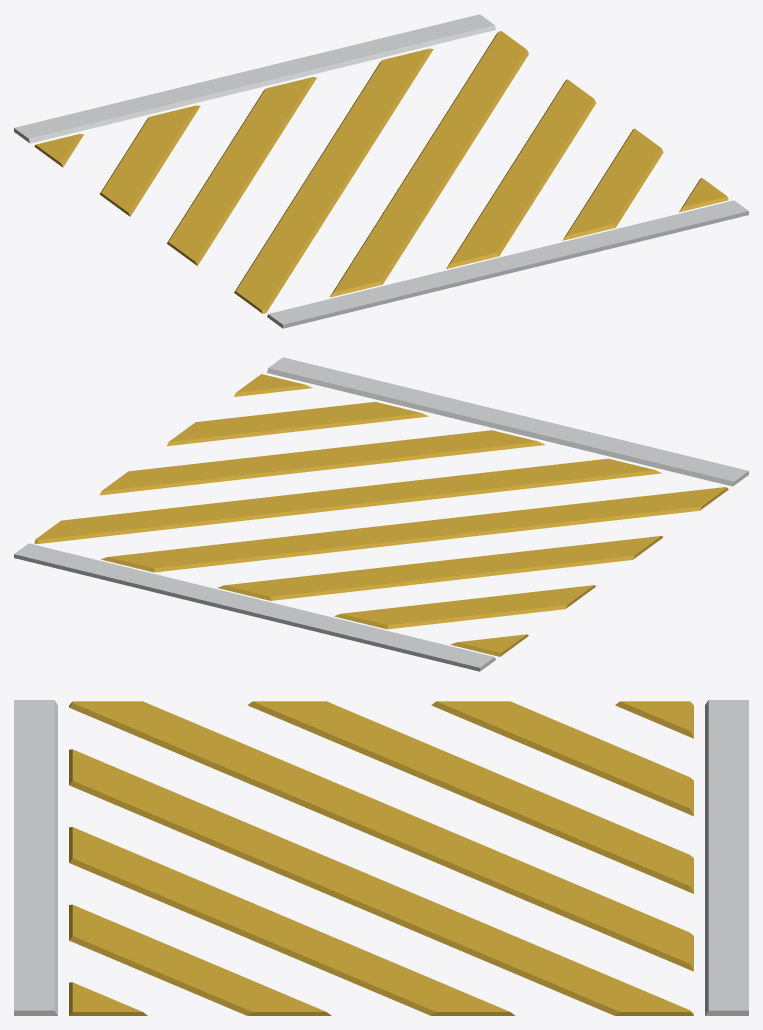
Rendered from ambulance-bay-hatching-decal-106ff2.glb.
The picture shows the model from 3 angles, top to bottom: view 1: azimuth 30°, elevation 25°; view 2: azimuth 150°, elevation 25°; view 3: azimuth 270°, elevation 25°; orthographic projection. The views are drawn at different scales.
Visible parts, largest first — view 1: bay-marking; view 2: bay-marking; view 3: bay-marking.
Boxes of the visible parts, left/top/right/bottom form: bay-marking: left=14, top=14, right=748, bottom=328; bay-marking: left=14, top=357, right=748, bottom=671; bay-marking: left=14, top=700, right=748, bottom=1015.
Size of the model in its own units: 2 by 0.016 by 2.
